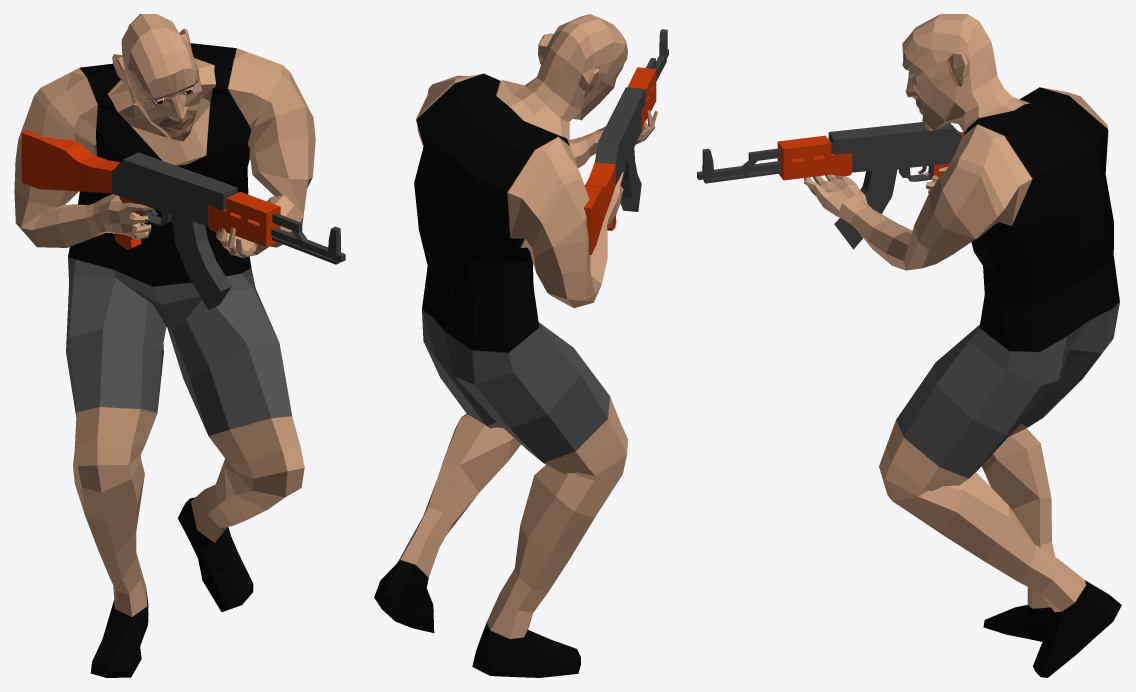
The model's file is PlayerWalk(29).obj.
The picture shows the model from 3 angles, left to right: view 1: azimuth 30°, elevation 25°; view 2: azimuth 150°, elevation 25°; view 3: azimuth 270°, elevation 25°; orthographic projection. The views are drawn at different scales.
Parts seen in each view (by area): view 1: Plane002, Object001; view 2: Plane002, Object001; view 3: Plane002, Object001.
Part boxes in pixels (x1=…): Plane002: x1=14, y1=14, x2=315, y2=677; Object001: x1=21, y1=130, x2=345, y2=309; Plane002: x1=374, y1=14, x2=657, y2=677; Object001: x1=584, y1=29, x2=668, y2=254; Plane002: x1=804, y1=14, x2=1121, y2=677; Object001: x1=697, y1=122, x2=964, y2=249.
Size of the model in its own units: 576 by 1583 by 987.
